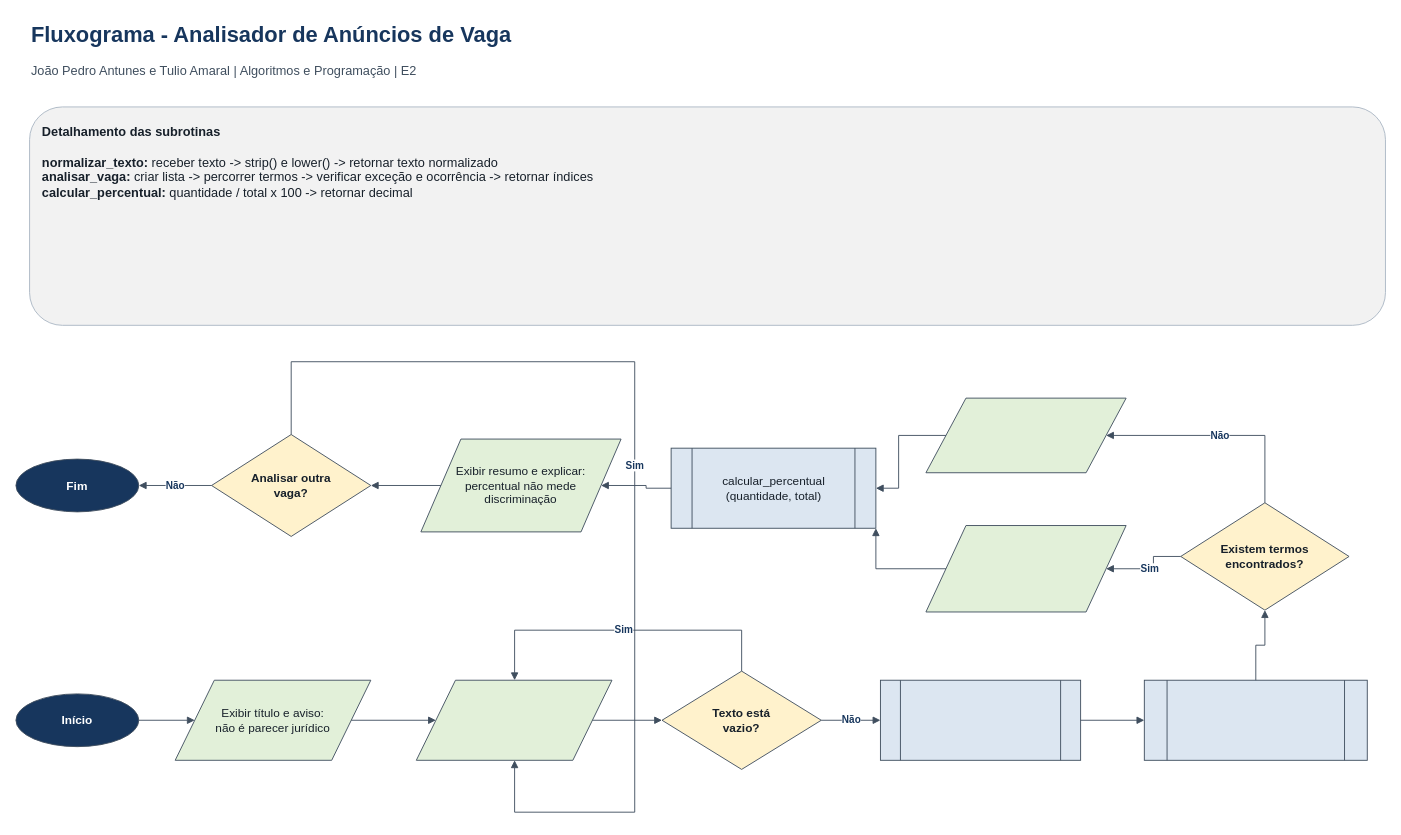
This 1401x835 diagram has some shape labels left out. Here are the shapes that lost their labels. From the top down, the centre of each, then its label:
the point at 1025,435: Informar que nenhuma regra foi localizada
the point at 1025,568: Exibir termo, categoria, explicação e sugestão
the point at 513,719: Ler texto do anúncio da vaga
the point at 980,719: normalizar_texto(texto)
the point at 1255,719: analisar_vaga(texto, termos)
